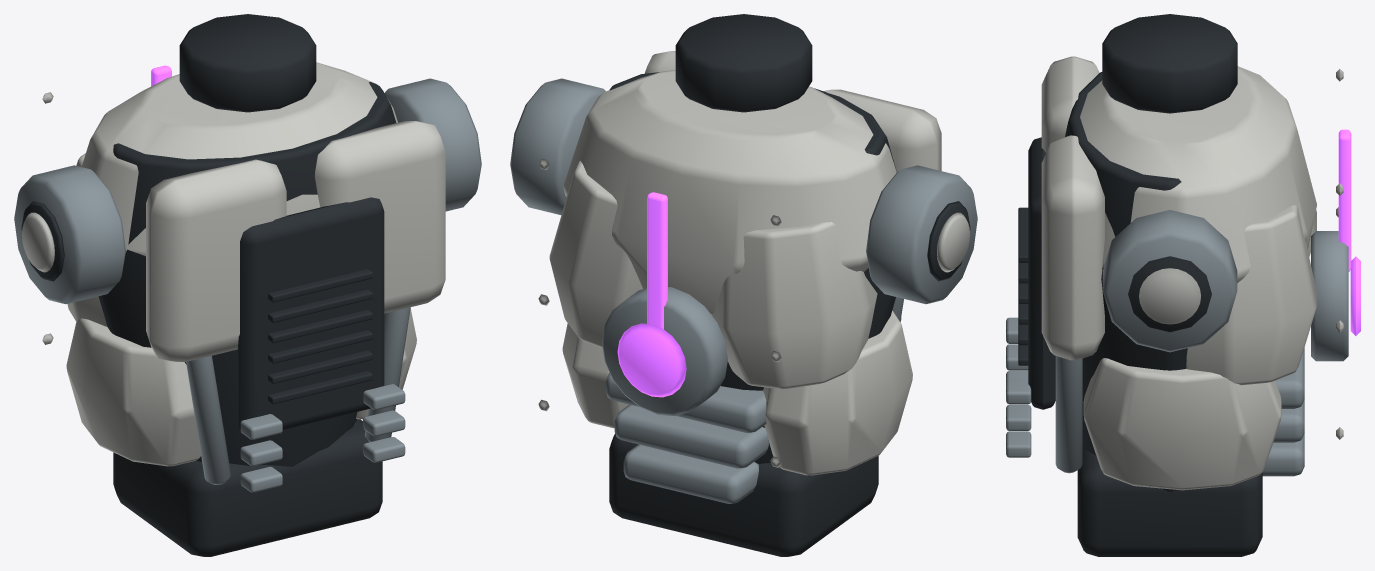
The model's file is torsos_09.glb.
3 renders of one model, left to right at view 1: azimuth 30°, elevation 25°; view 2: azimuth 150°, elevation 25°; view 3: azimuth 270°, elevation 25°, orthographic.
Parts seen in each view (by area): view 1: torsos_09_Geometry; view 2: torsos_09_Geometry; view 3: torsos_09_Geometry.
Boxes of the visible parts, x1,y1,x2,y2 form: torsos_09_Geometry: (14,14,481,556); torsos_09_Geometry: (510,14,977,556); torsos_09_Geometry: (1006,14,1360,556).
Bounding box in the file's own units: 0.592 × 0.625 × 0.422.
